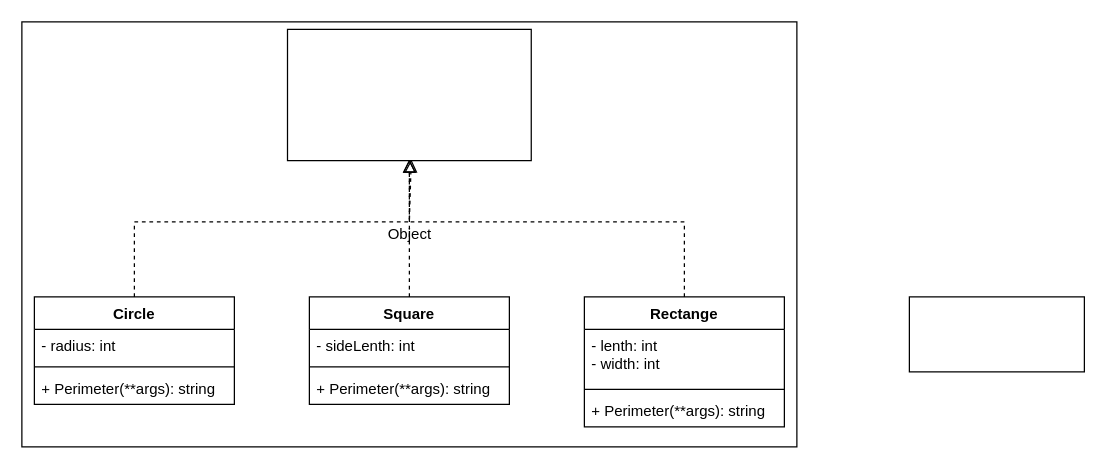
Some shapes in this 1106 by 469 pixel diagram are drawn without their labels. The shapes that lost their labels are listed below. From the top down, each one's centre as x and y in pixels, then its label:
At (x=408, y=94): "<<Interface>> ShapeAPI + Perimeter(**args): int".
At (x=996, y=334): "NewFunc NewShapeAPI".
